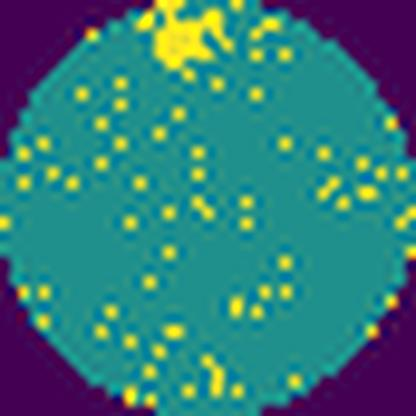Edge-Loc: (137, 0, 233, 71)
